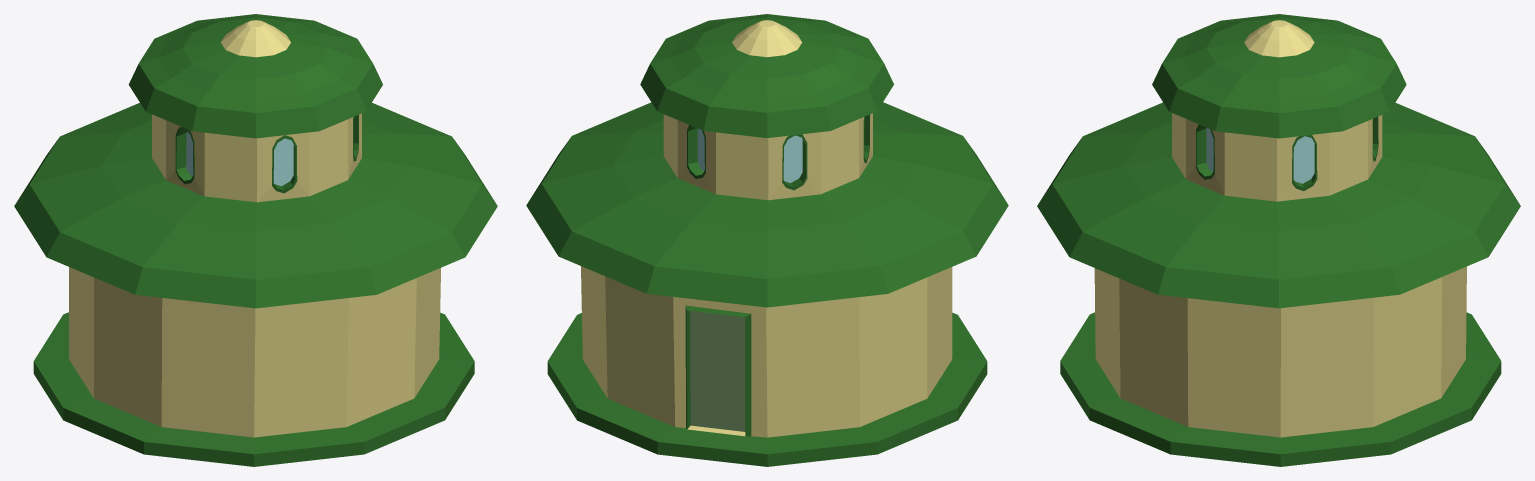
Rendered from Greenhouse.fbx.
3 views of the same model, side by side, from view 1: azimuth 30°, elevation 25°; view 2: azimuth 150°, elevation 25°; view 3: azimuth 270°, elevation 25° (orthographic).
Visible parts, largest first — view 1: house; view 2: house; view 3: house.
Part boxes in pixels (box(x1,y1,x2,y2)): house: box(14, 14, 497, 466); house: box(526, 14, 1008, 466); house: box(1037, 14, 1520, 466).
Bounding box in the file's own units: 814 × 814 × 651.
